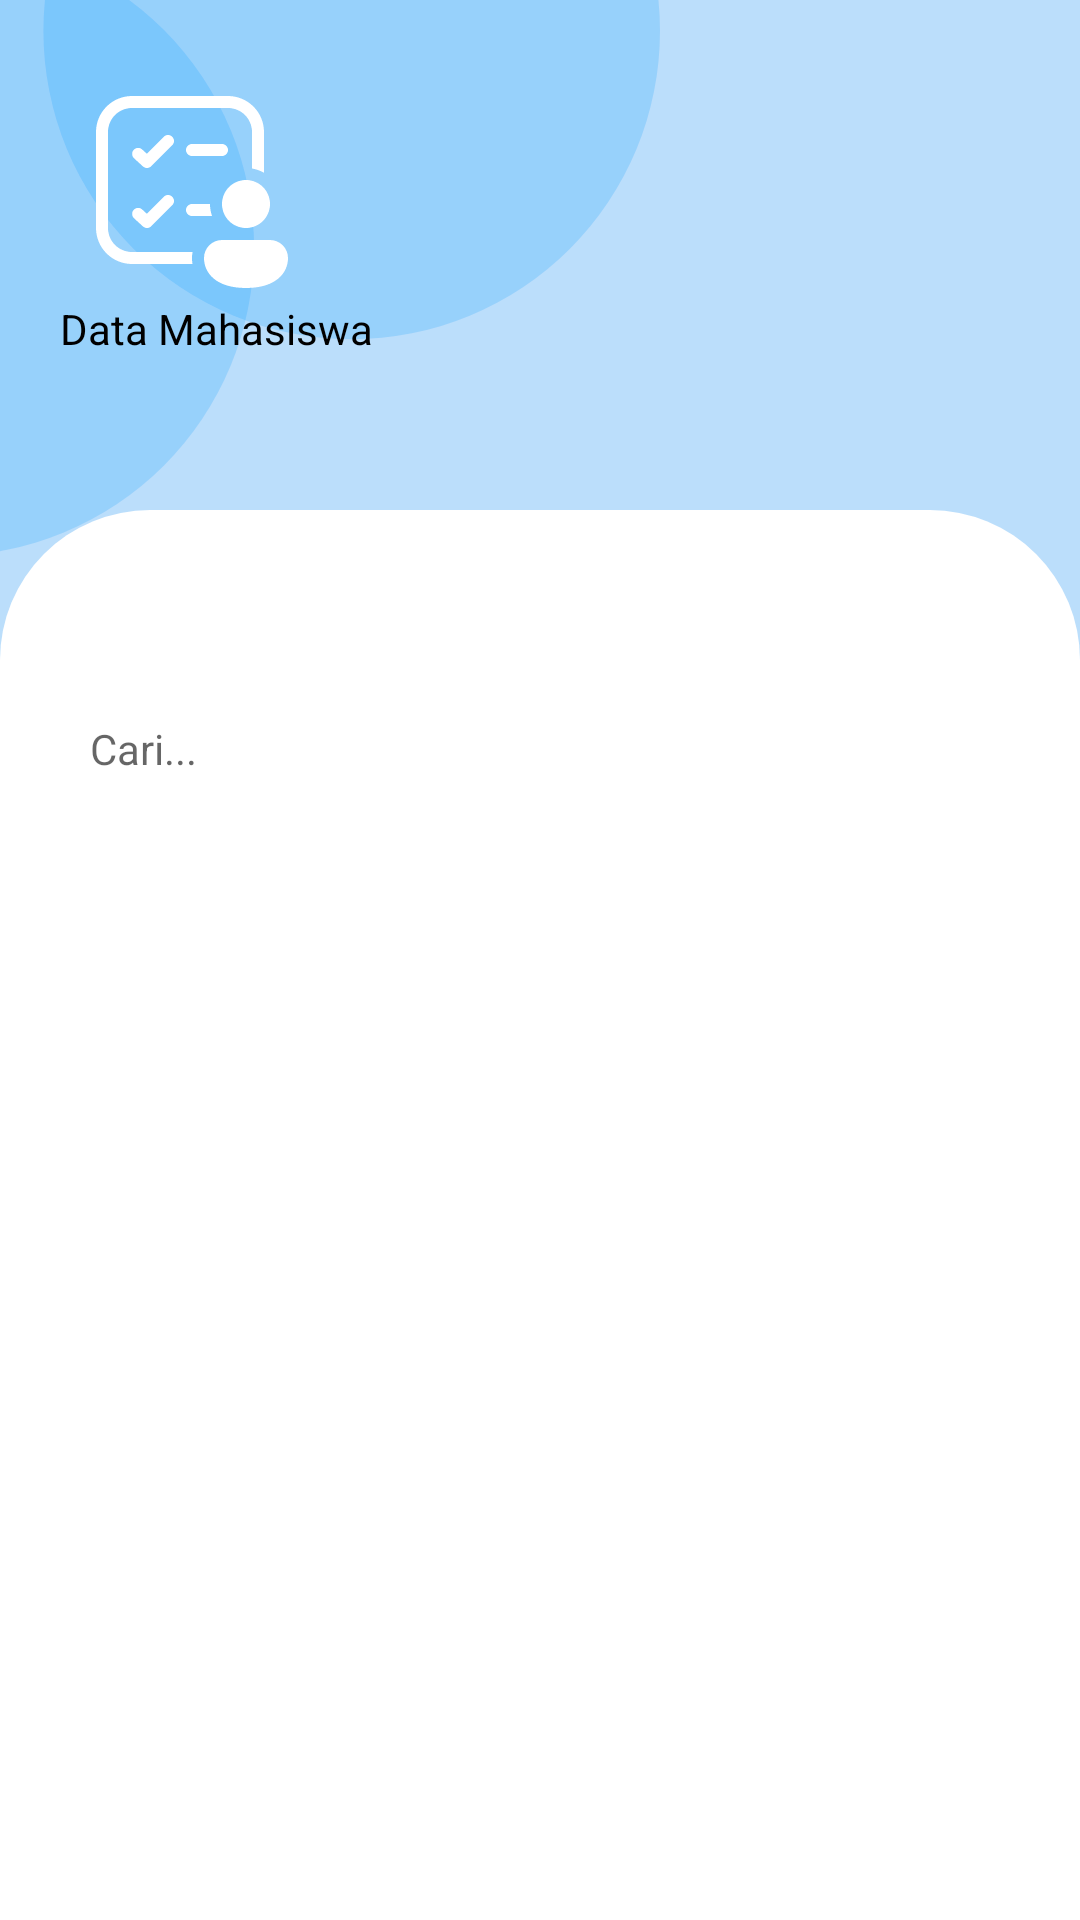

Where to tap for icons on this 1080 × 1920 app screen, as [x,y]:
data akademik: [174,180]
